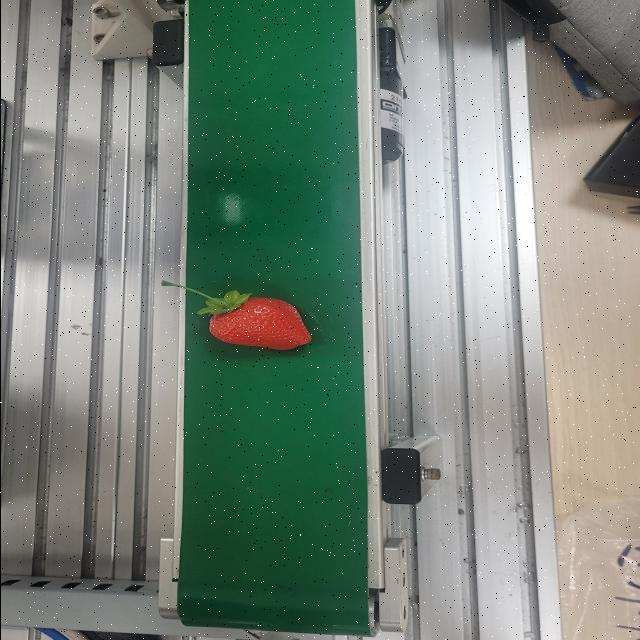Small Ripe Strawberry: (160, 279, 316, 352)
